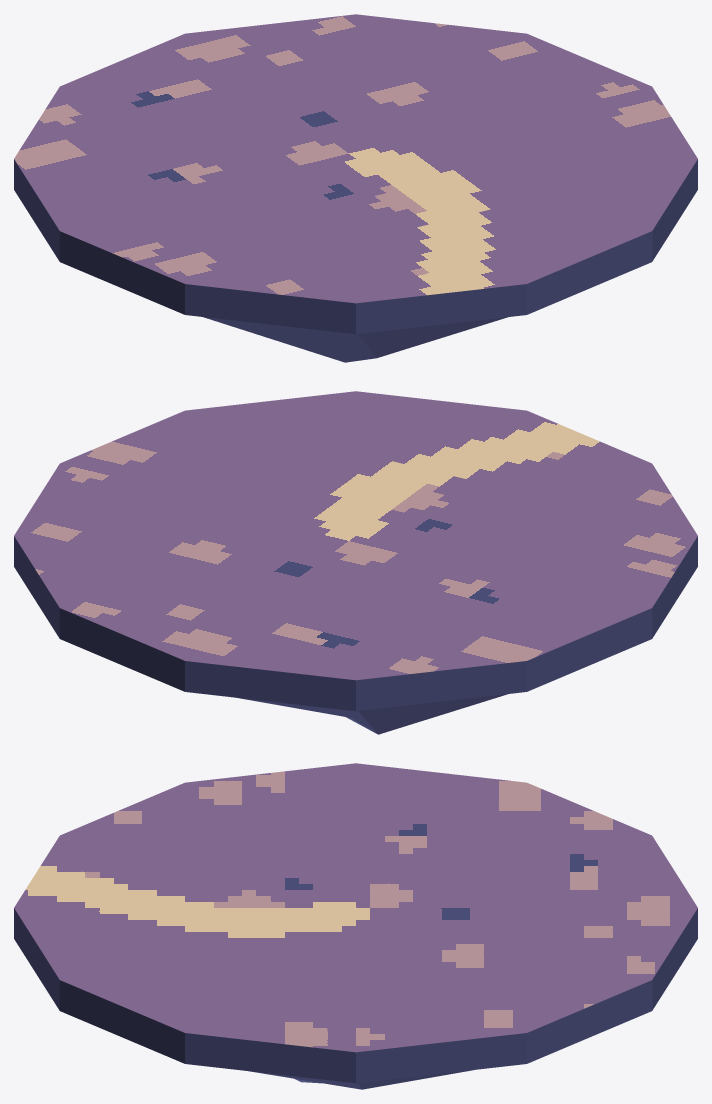
File: ground.glb
The picture shows the model from 3 angles, top to bottom: view 1: azimuth 30°, elevation 25°; view 2: azimuth 150°, elevation 25°; view 3: azimuth 270°, elevation 25°; orthographic projection.
Parts seen in each view (by area): view 1: Top, Under; view 2: Top, Under; view 3: Top, Under.
Boxes of the visible parts, x1,y1,x2,y2 form: Top: (14,14,697,334); Under: (203,317,508,362); Top: (14,391,697,711); Under: (236,694,507,734); Top: (14,763,697,1083); Under: (250,1070,473,1089).
Bounding box in the file's own units: 10 × 2.88 × 10.
2 materials, 1 textured.
